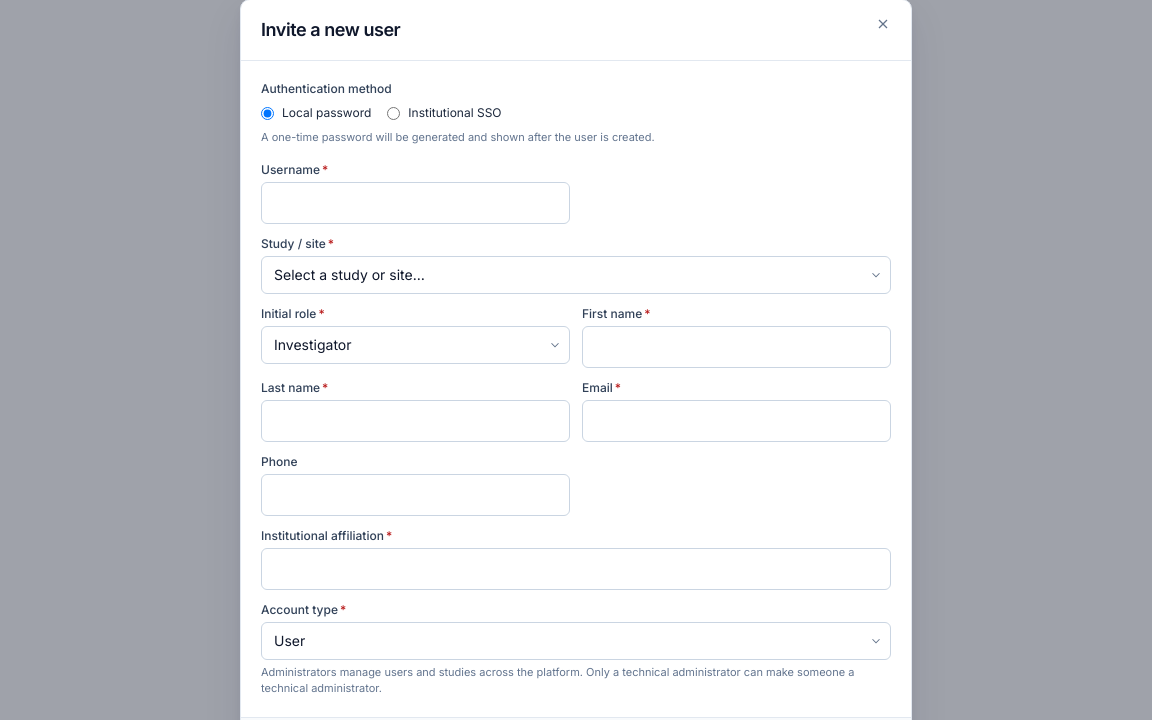
Test: InviteUserDialog — SSO branch (Phase E.6) › hides the externalId input until SSO is selected
This screenshot has width=1152, height=720.
(page scrolled)
Click the radio button named "invite-authmethod": (394, 113) [387,106,400,120]
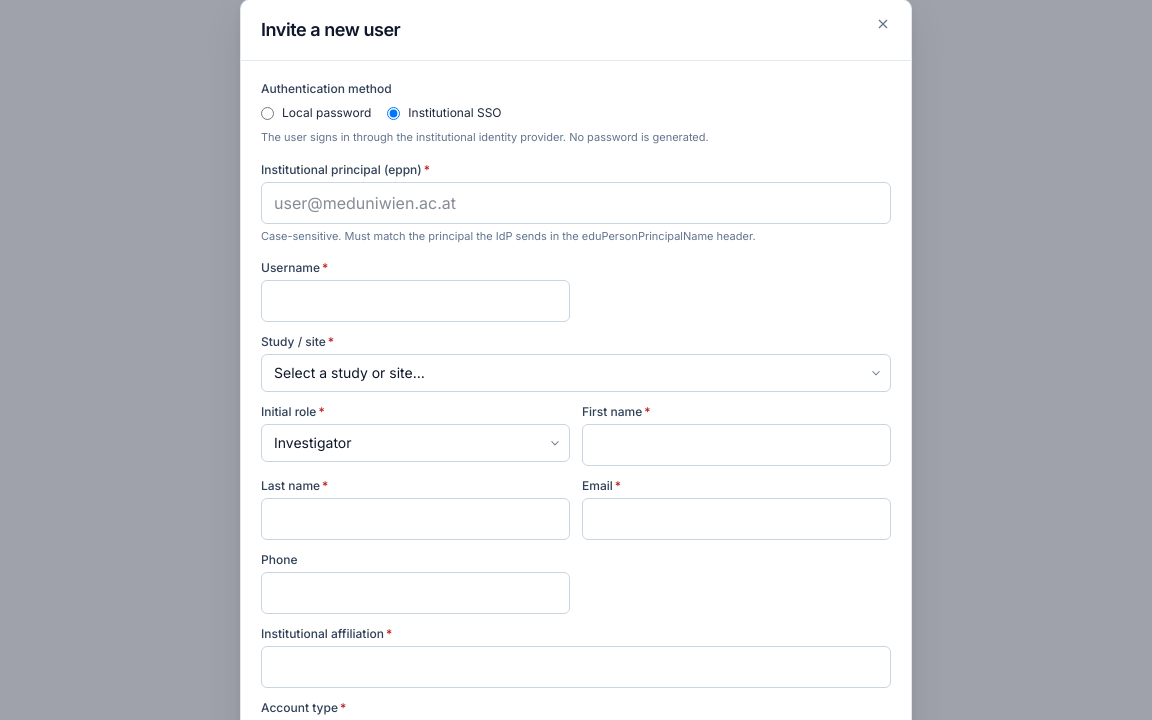
Now the field with id "invite-externalid" is shown, box [261,182,891,224]
